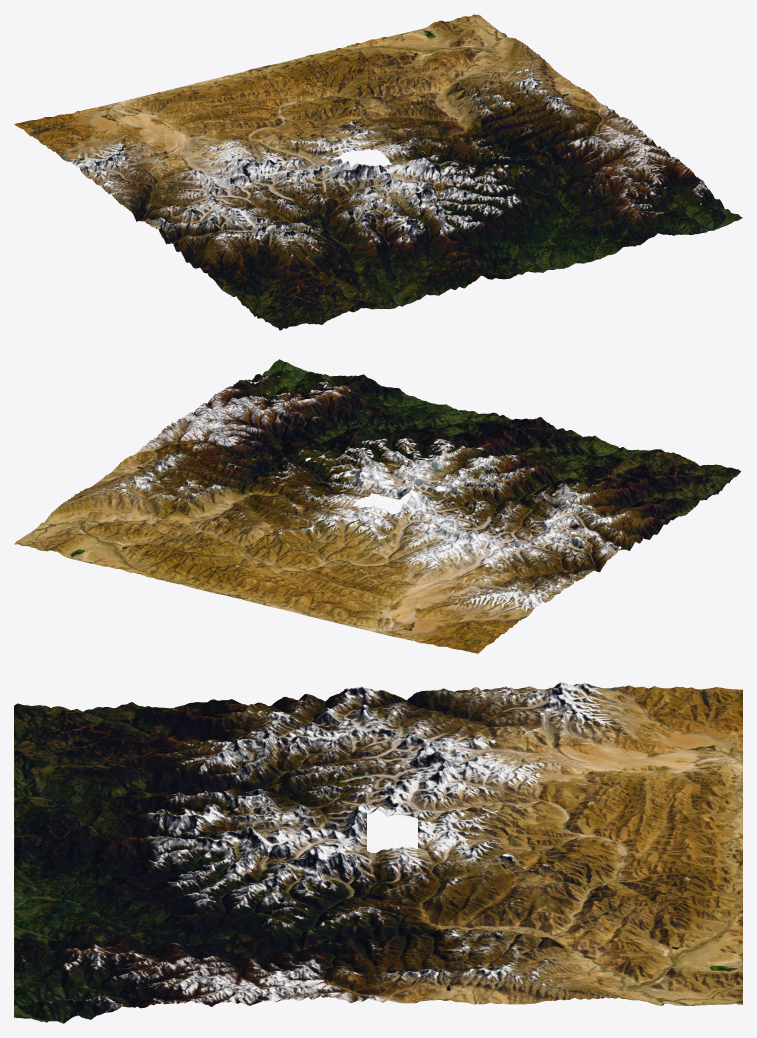
Rendered from khumbu_wide_webp.glb.
The picture shows the model from 3 angles, top to bottom: view 1: azimuth 30°, elevation 25°; view 2: azimuth 150°, elevation 25°; view 3: azimuth 270°, elevation 25°; orthographic projection. The views are drawn at different scales.
Visible parts, largest first — view 1: world; view 2: world; view 3: world.
Part boxes in pixels (x1,y1,x2,y2): world: (14, 14, 742, 330); world: (14, 359, 740, 653); world: (14, 682, 742, 1023).
Size of the model in its own units: 117953 by 7884 by 116886.
1 material, 1 textured.
